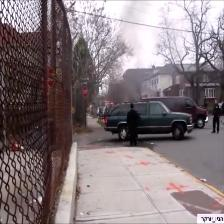smoke: (112, 2, 143, 101)
